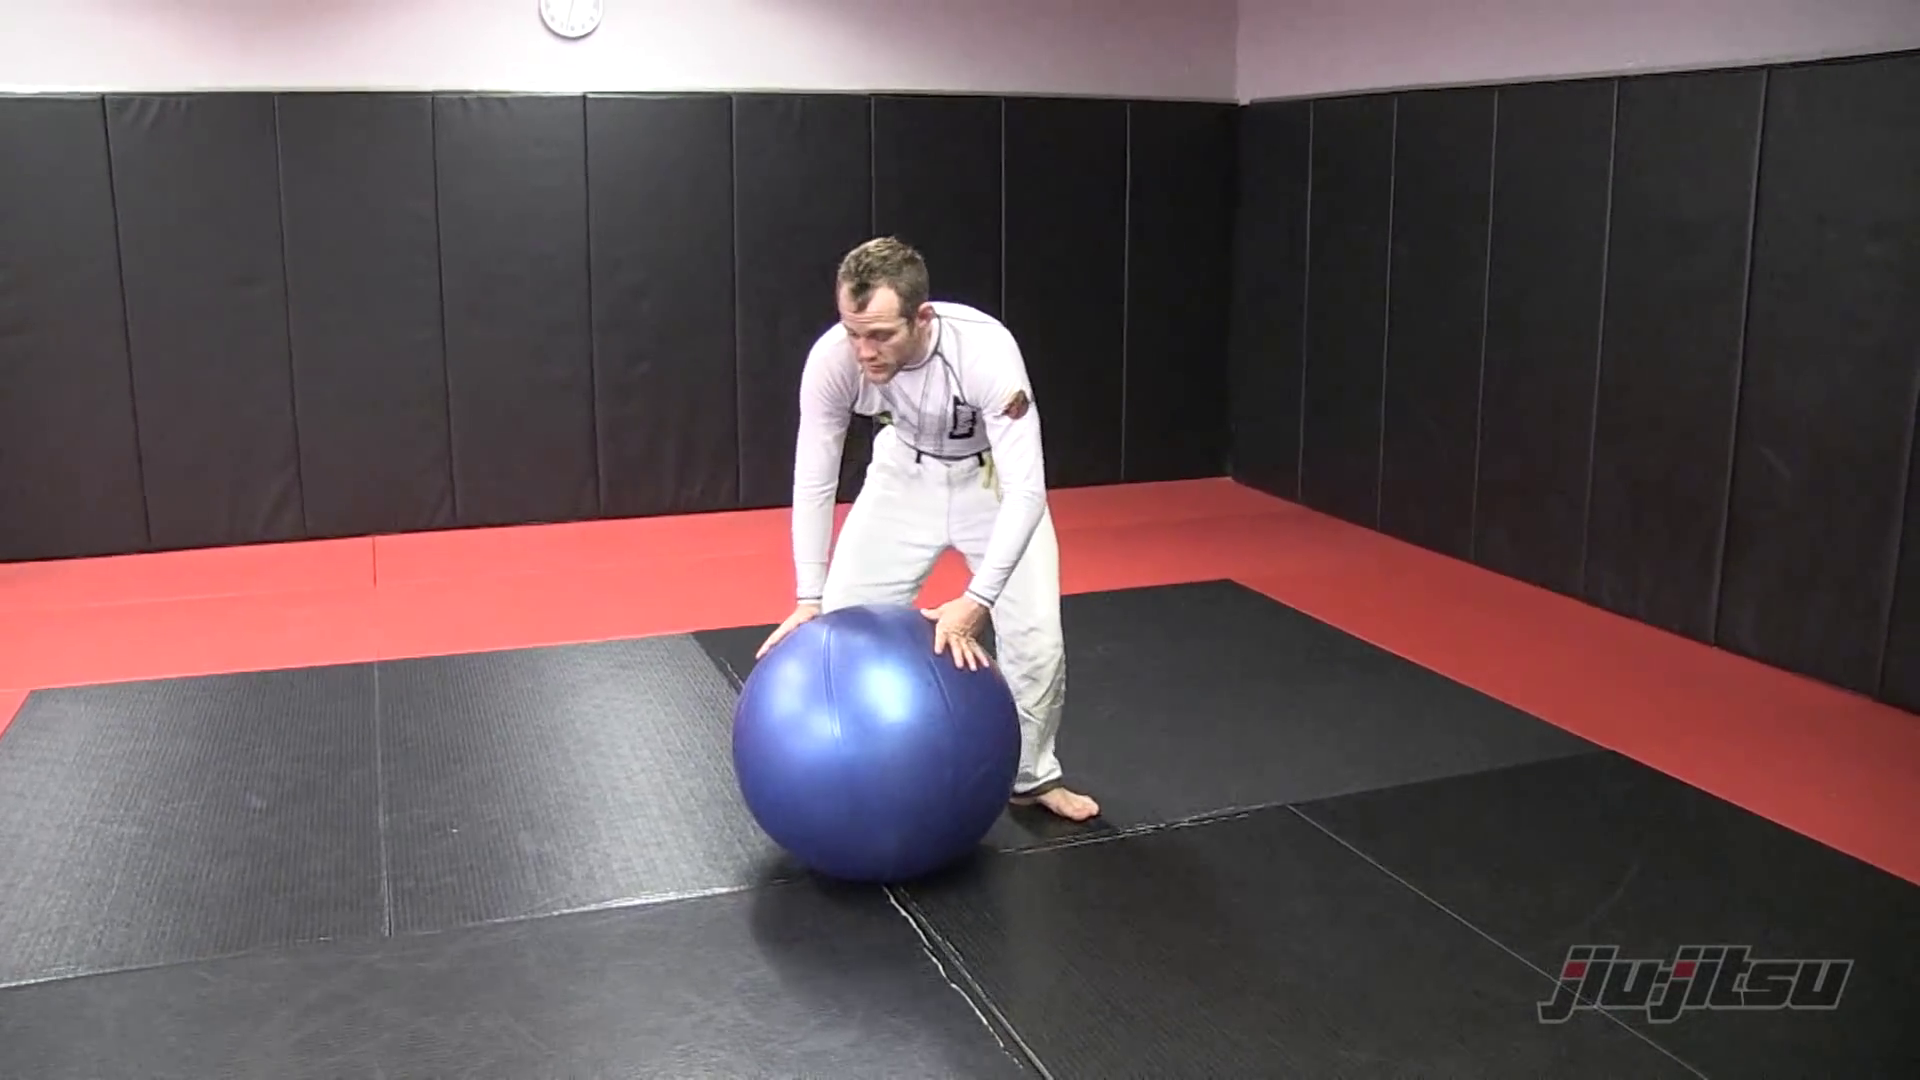yogaball: (716, 589, 1043, 899)
